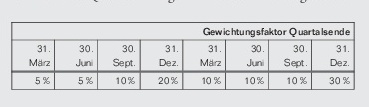table: (0, 0, 369, 107)
